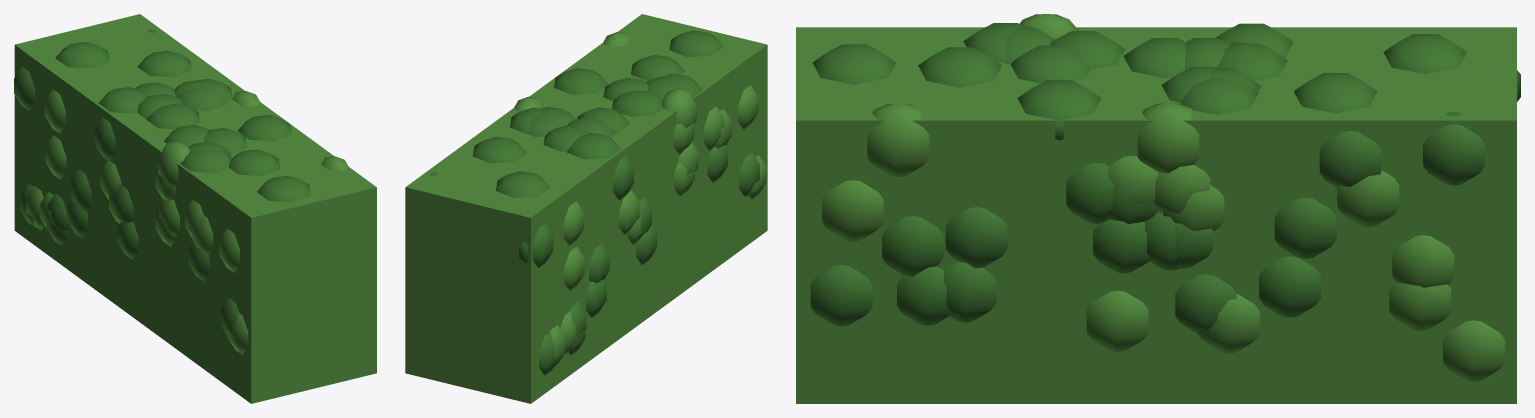
Rendered from hedge_2.glb.
3 views of the same model, side by side, from view 1: azimuth 30°, elevation 25°; view 2: azimuth 150°, elevation 25°; view 3: azimuth 270°, elevation 25° (orthographic). The views are drawn at different scales.
Visible parts, largest first — view 1: hedge; view 2: hedge; view 3: hedge.
Boxes of the visible parts, bbox=[...] form: hedge: bbox=[14, 14, 376, 403]; hedge: bbox=[405, 14, 767, 403]; hedge: bbox=[796, 14, 1520, 403].
Size of the model in its own units: 0.6646 by 0.9089 by 1.97.
